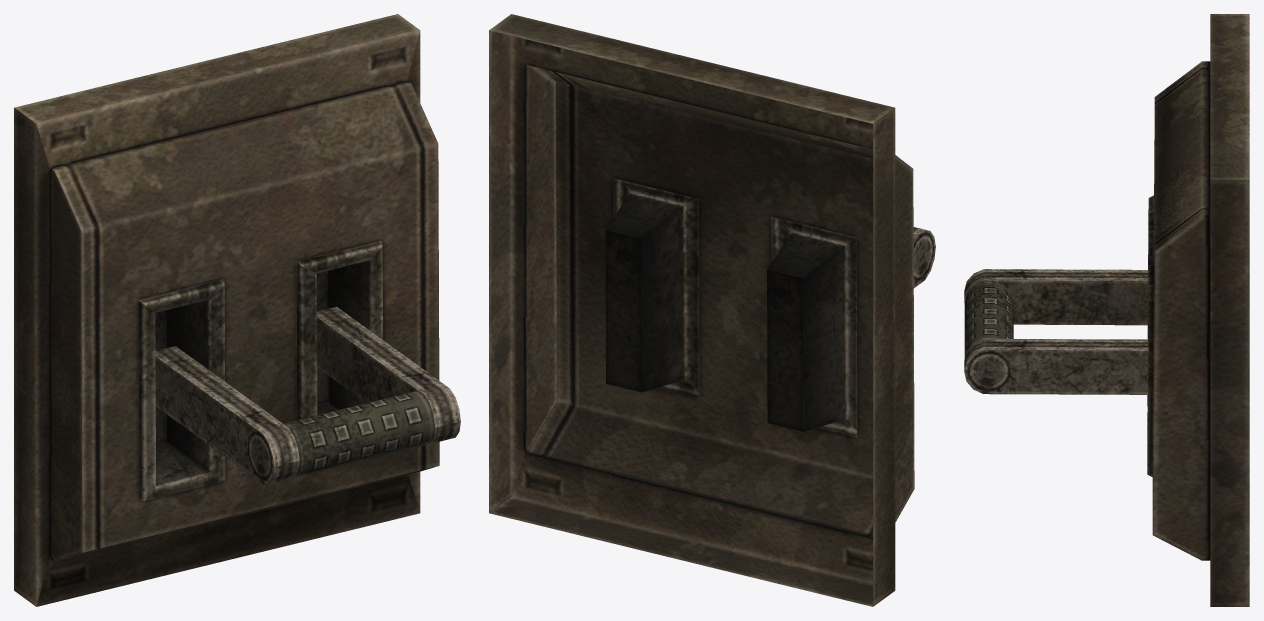
The model's file is lever_wall.dae.
3 renders of one model, left to right at view 1: azimuth 30°, elevation 25°; view 2: azimuth 150°, elevation 25°; view 3: azimuth 270°, elevation 25°, orthographic. The views are drawn at different scales.
Visible parts, largest first — view 1: plate, lever; view 2: plate, lever; view 3: plate, lever.
Part boxes in pixels (box(x1,y1,x2,y2)): plate: box(14, 14, 439, 606); lever: box(155, 307, 460, 484); plate: box(489, 14, 914, 606); lever: box(913, 227, 935, 288); plate: box(1147, 14, 1249, 606); lever: box(964, 269, 1148, 394).
Size of the model in its own units: 0.4258 by 0.5117 by 0.31.
